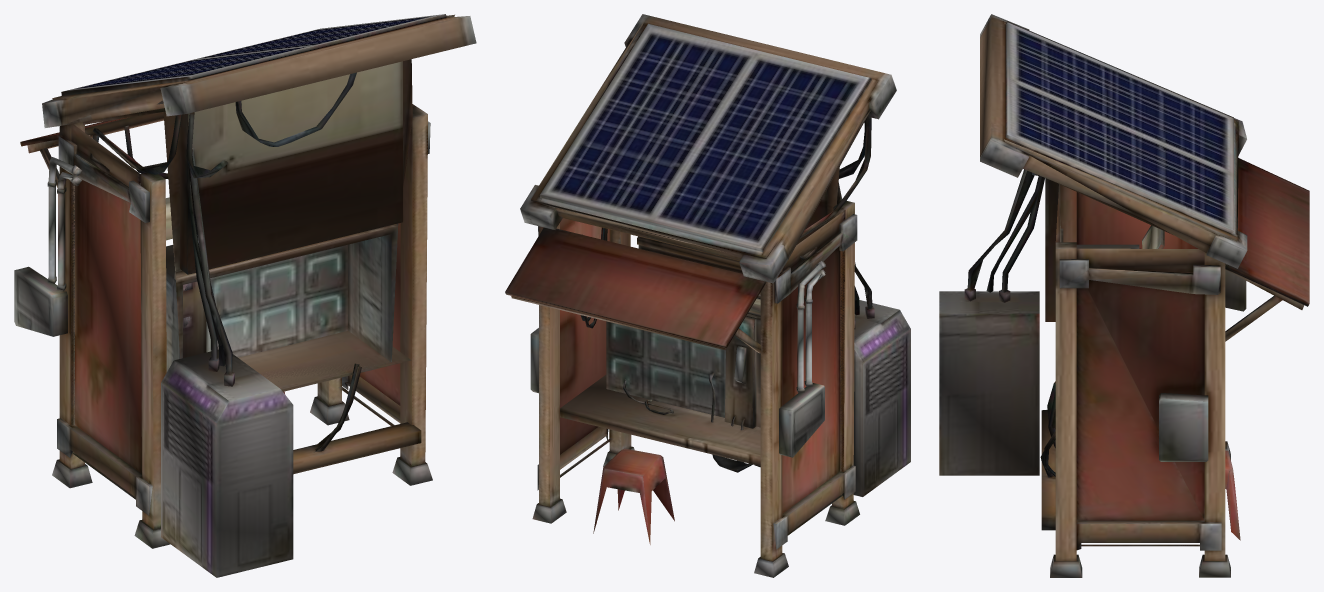
The model's file is charging_kiosk.glb.
The picture shows the model from 3 angles, left to right: view 1: azimuth 30°, elevation 25°; view 2: azimuth 150°, elevation 25°; view 3: azimuth 270°, elevation 25°; orthographic projection. The views are drawn at different scales.
Parts seen in each view (by area): view 1: Body; view 2: Body; view 3: Body.
Boxes of the visible parts, x1=… form: Body: x1=14, y1=14, x2=476, y2=577; Body: x1=505, y1=14, x2=910, y2=577; Body: x1=939, y1=14, x2=1309, y2=577.
Bounding box in the file's own units: 1.67 × 2.4 × 1.84.
1 material, 1 textured.
